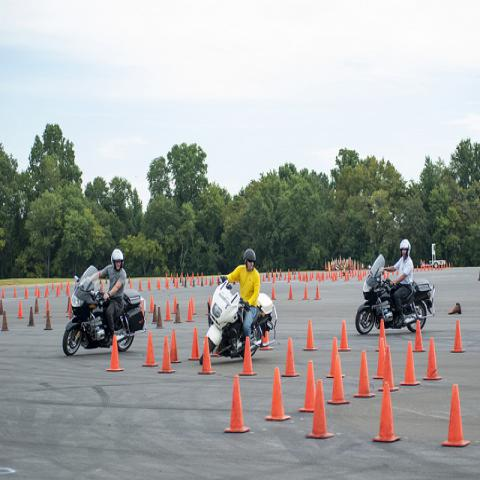motorcycle: (65, 263, 148, 371), (197, 281, 280, 364), (356, 255, 436, 334)
